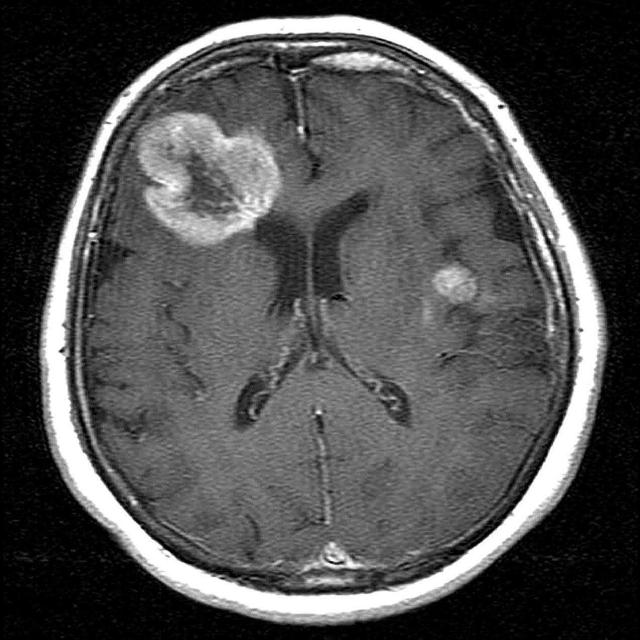Tumor-Cell: (136, 113, 276, 230)
